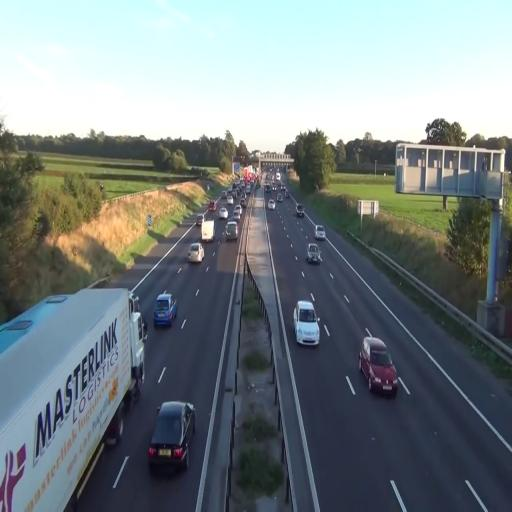vehicle: (0, 284, 145, 508), (148, 400, 196, 474), (358, 335, 399, 397), (292, 299, 320, 346), (154, 292, 177, 328), (188, 242, 204, 264), (306, 242, 322, 264), (224, 221, 238, 241), (315, 224, 326, 241)
